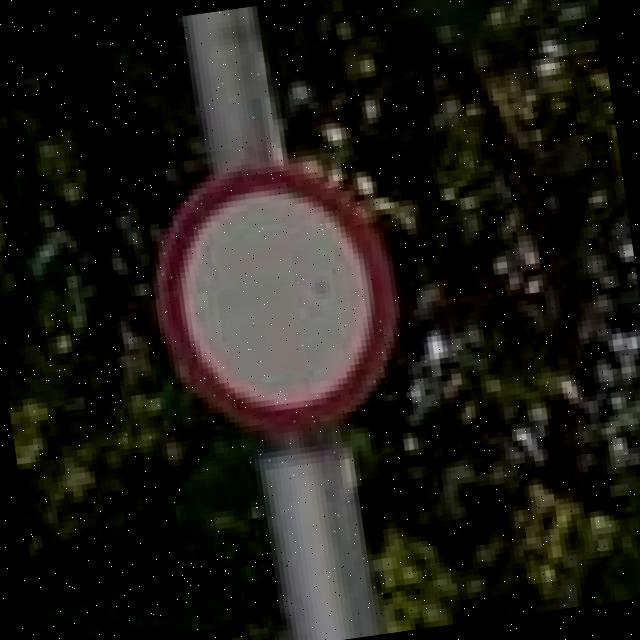Zakaz ruchu w obu kierunkach: (143, 146, 415, 453)
